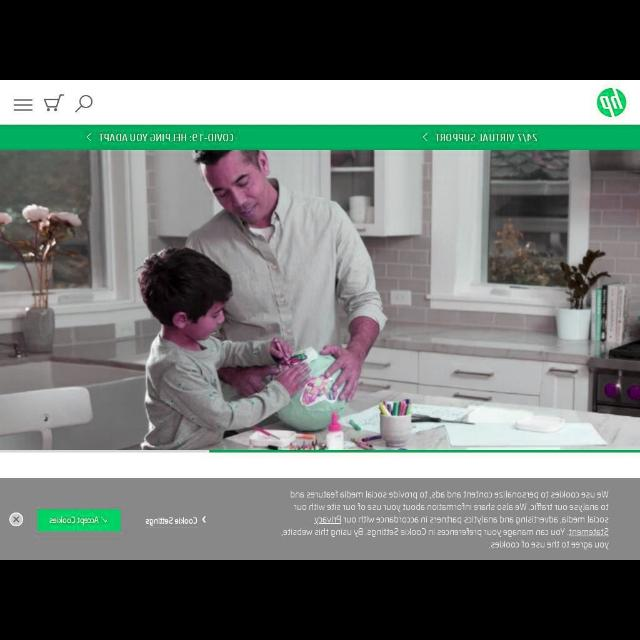button: (10, 511, 24, 525)
icon: (74, 94, 94, 114), (44, 93, 64, 111), (14, 98, 32, 114), (202, 514, 208, 526), (422, 132, 428, 142), (86, 132, 92, 140), (101, 516, 109, 522), (13, 514, 19, 522)
image: (1, 150, 639, 452), (596, 86, 626, 118)
text: (280, 490, 610, 550), (98, 132, 234, 144), (434, 130, 538, 142), (145, 516, 197, 528), (50, 516, 100, 526)
textbutton: (38, 510, 120, 532)
